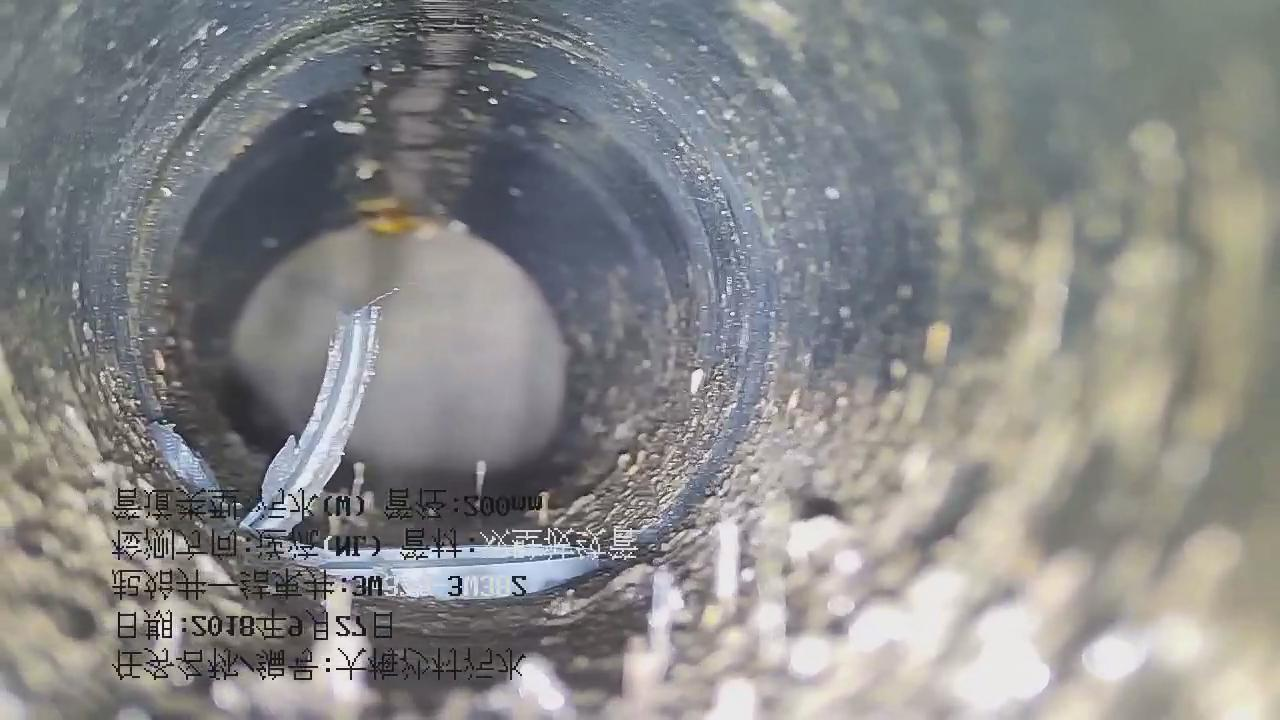JKCL: (130, 285, 637, 609)
